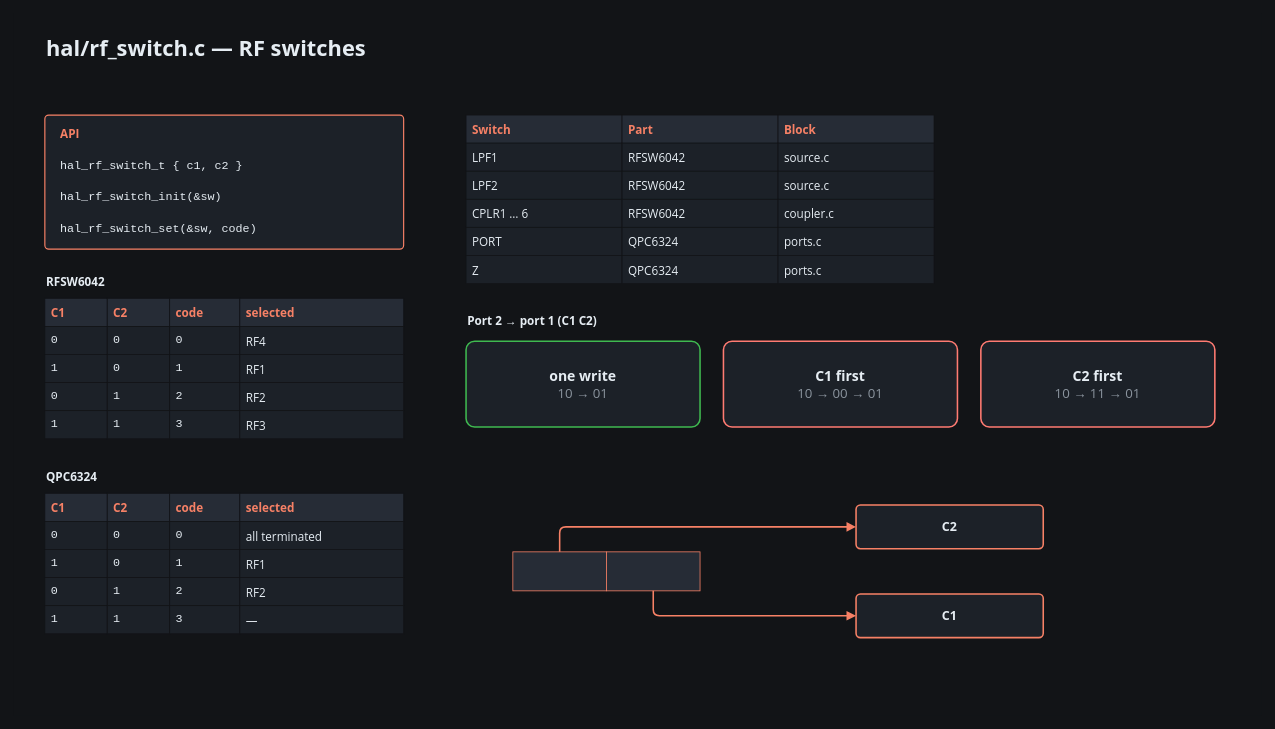
The diagram is 1275 pixels wide and 729 high, and some of its shapes have lost their labels. The box of each missing label's shape, as (x1, y1, x2, y2) in pixels:
bit 0: (606, 551, 700, 591)
bit 1: (512, 551, 606, 591)
